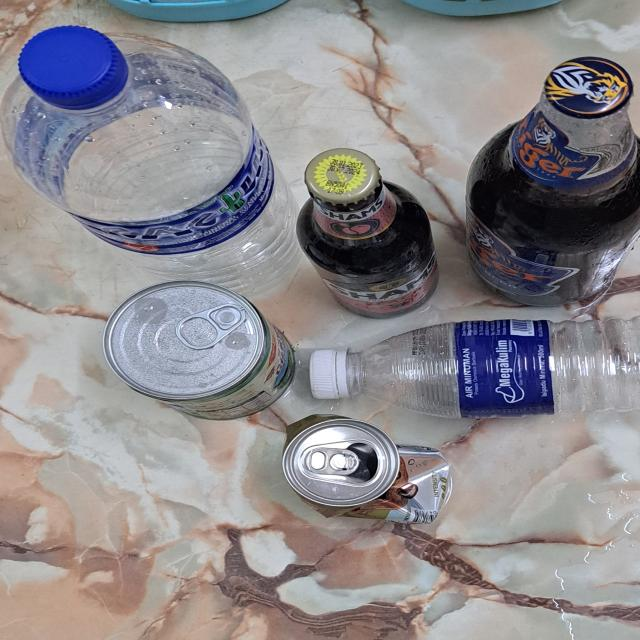can: (106, 279, 294, 419), (281, 421, 450, 523)
glass bottle: (462, 56, 640, 305), (302, 147, 439, 318)
plastic bottle: (10, 24, 298, 301), (308, 317, 640, 419)
plastic bottle cap: (19, 27, 128, 113), (309, 346, 355, 401)
pop tab: (174, 302, 247, 352), (305, 445, 360, 476)
